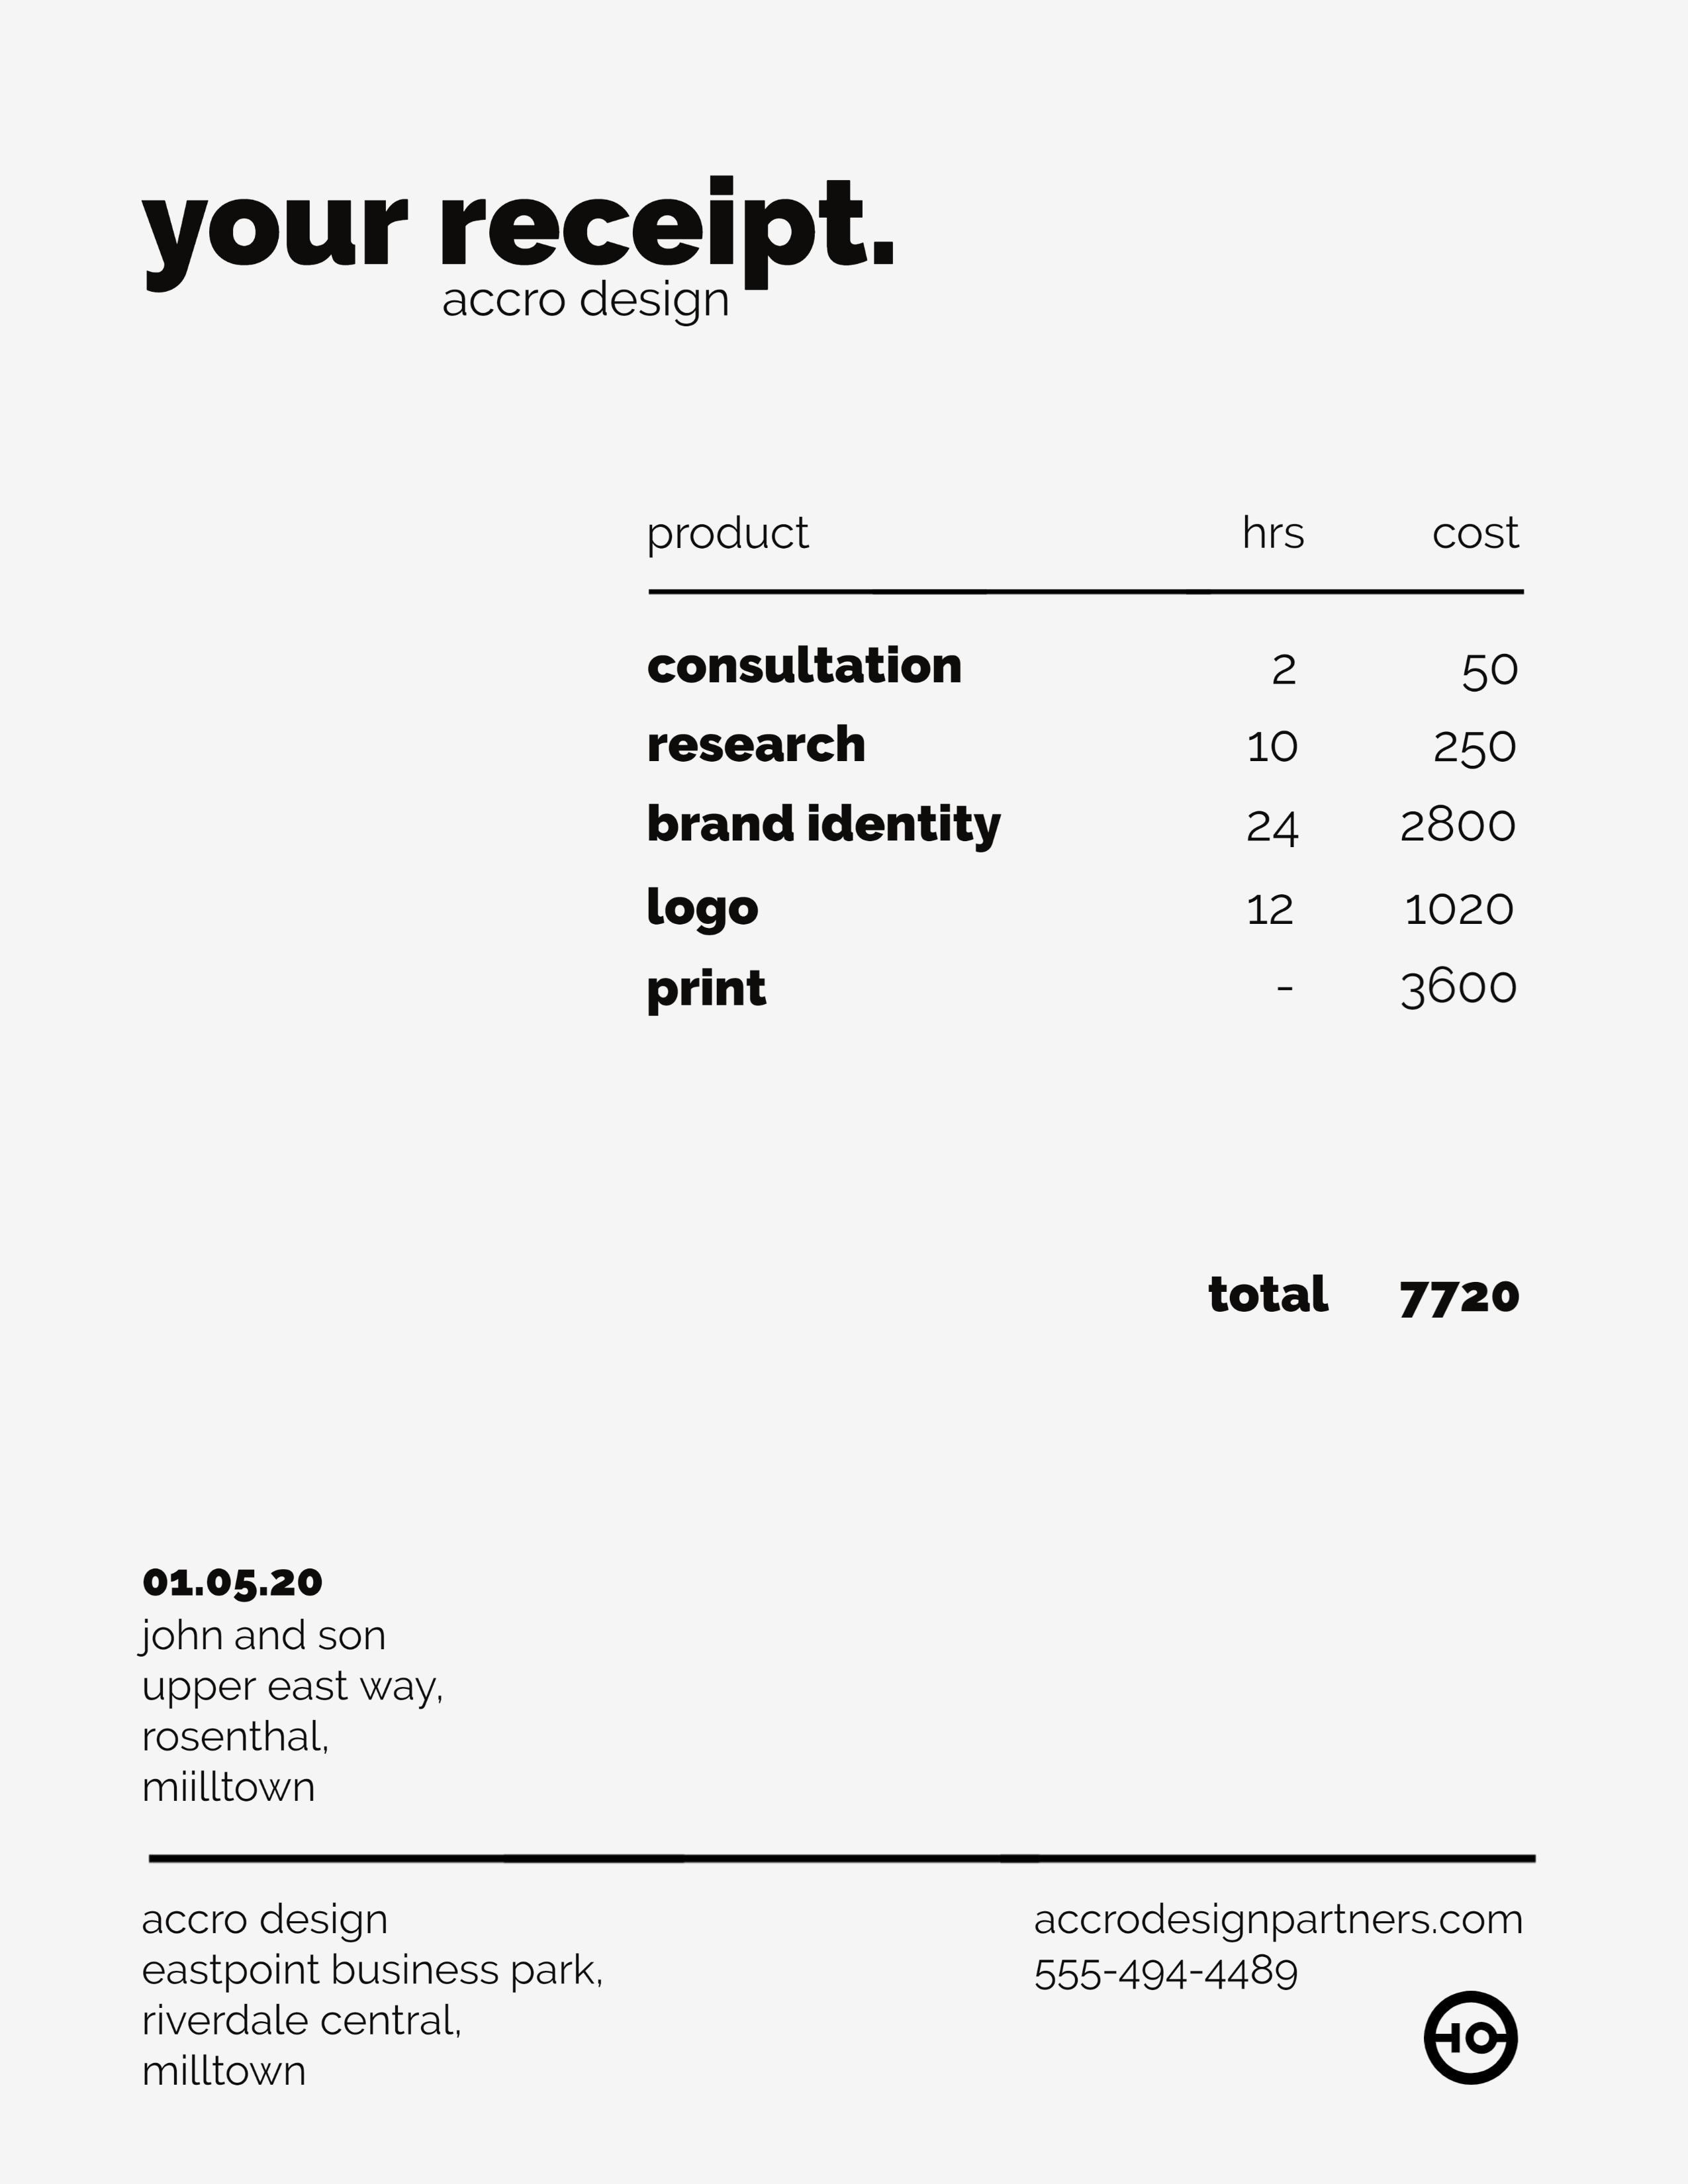ROI: (641, 514, 1538, 1052), (121, 1876, 659, 2128), (118, 1615, 465, 1821), (1172, 1257, 1540, 1337), (115, 1547, 387, 1604)
